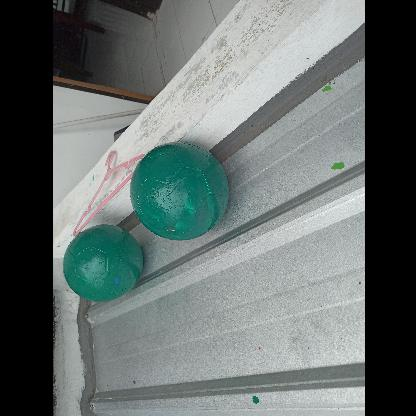green_ball: (126, 142, 228, 242), (61, 226, 140, 304)
